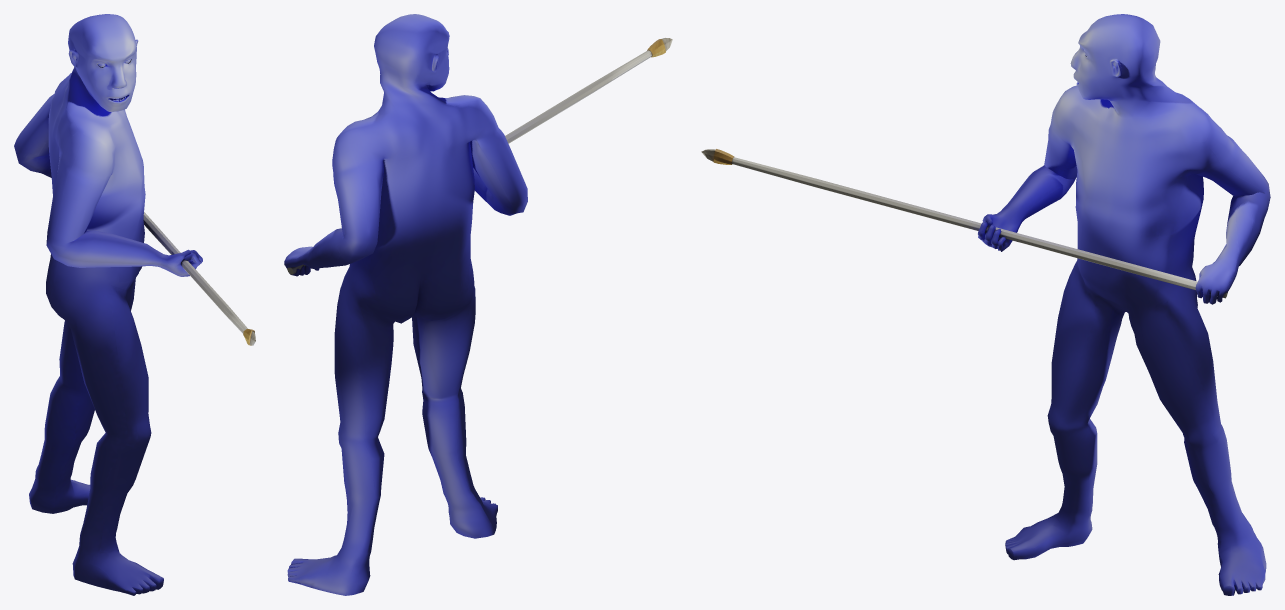
Rendered from h-neanderthal.glb.
3 renders of one model, left to right at view 1: azimuth 30°, elevation 25°; view 2: azimuth 150°, elevation 25°; view 3: azimuth 270°, elevation 25°, orthographic. The views are drawn at different scales.
Size of the model in its own units: 0.533 by 1.63 by 1.55.
1 material, 1 textured.
